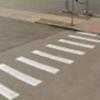crosswalks: (0, 32, 100, 100)
